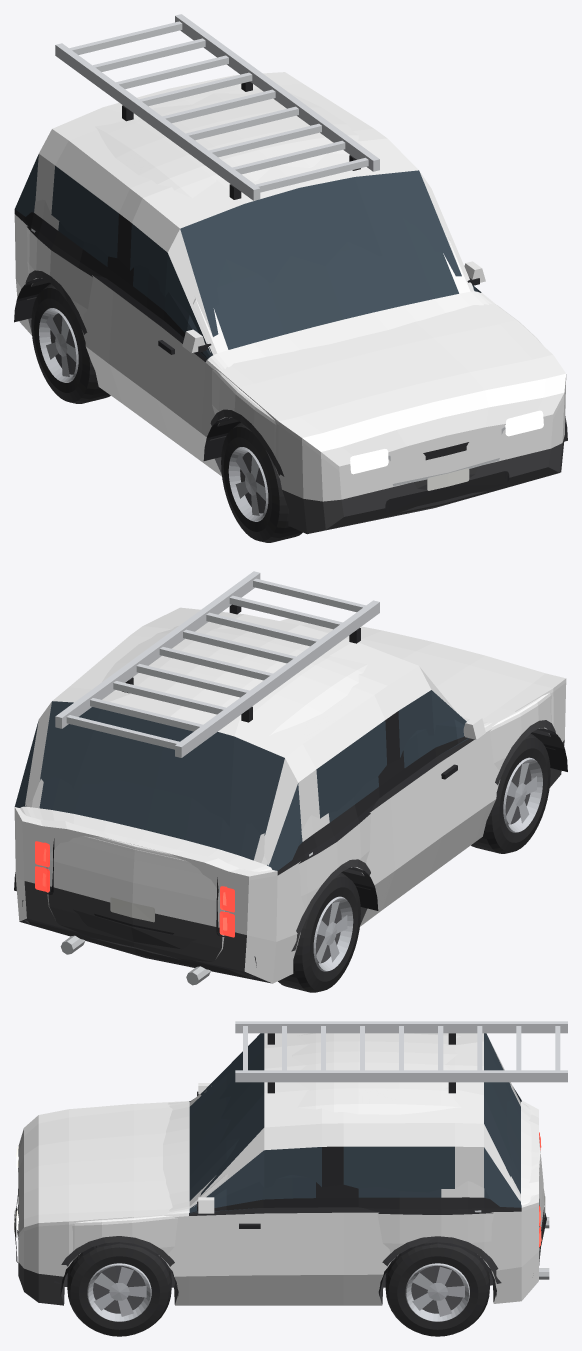
Rendered from furgao.glb.
3 views of the same model, one above another, from view 1: azimuth 30°, elevation 25°; view 2: azimuth 150°, elevation 25°; view 3: azimuth 270°, elevation 25° (orthographic). The views are drawn at different scales.
Parts seen in each view (by area): view 1: body.001, body, glass.001, glass, ladder, wheel_fr, details, wheel_rr, lamp_head.001, wheel_wells.001; view 2: body.001, body, glass.001, ladder, glass, details, wheel_rr, wheel_fr, wheel_wells.001, lamp_tail.001, lamp_tail; view 3: body.001, body, glass.001, ladder, wheel_fl, wheel_rl, glass, details, wheel_wells, wheel_wells.001.
Part boxes in pixels (x1=…): body.001: x1=14, y1=72, x2=566, y2=534; body: x1=24, y1=88, x2=543, y2=455; glass.001: x1=15, y1=154, x2=481, y2=359; glass: x1=31, y1=203, x2=478, y2=358; ladder: x1=55, y1=14, x2=379, y2=200; wheel_fr: x1=221, y1=422, x2=302, y2=542; details: x1=25, y1=228, x2=509, y2=512; wheel_rr: x1=31, y1=284, x2=110, y2=403; lamp_head.001: x1=350, y1=410, x2=543, y2=474; wheel_wells.001: x1=14, y1=278, x2=565, y2=460; body.001: x1=14, y1=607, x2=566, y2=983; body: x1=20, y1=625, x2=551, y2=965; glass.001: x1=14, y1=690, x2=468, y2=870; ladder: x1=55, y1=571, x2=379, y2=757; glass: x1=23, y1=719, x2=464, y2=866; details: x1=22, y1=716, x2=555, y2=985; wheel_rr: x1=278, y1=872, x2=360, y2=992; wheel_fr: x1=471, y1=733, x2=550, y2=853; wheel_wells.001: x1=341, y1=728, x2=567, y2=910; lamp_tail.001: x1=35, y1=841, x2=234, y2=937; lamp_tail: x1=42, y1=838, x2=229, y2=936; body.001: x1=18, y1=1033, x2=538, y2=1305; body: x1=64, y1=1033, x2=544, y2=1286; glass.001: x1=189, y1=1033, x2=521, y2=1213; ladder: x1=235, y1=1021, x2=567, y2=1093; wheel_fl: x1=67, y1=1243, x2=171, y2=1336; wheel_rl: x1=385, y1=1243, x2=489, y2=1336; glass: x1=189, y1=1066, x2=520, y2=1212; details: x1=14, y1=1083, x2=549, y2=1283; wheel_wells: x1=60, y1=1242, x2=496, y2=1296; wheel_wells.001: x1=61, y1=1243, x2=496, y2=1294.
Size of the model in its own units: 1.97 by 1.8 by 3.83.
